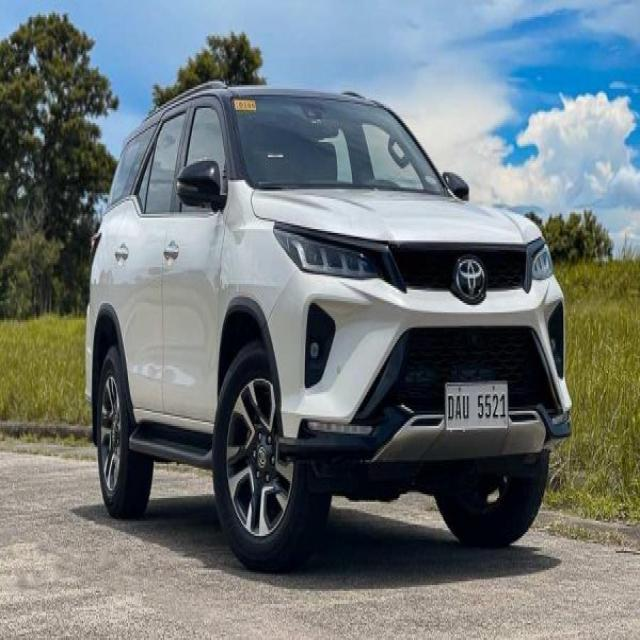light_vehicle: (84, 79, 573, 570)
